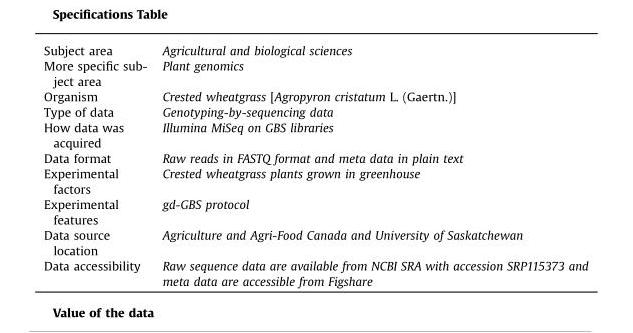table: (43, 42, 587, 287)
table column: (154, 42, 587, 287), (43, 42, 154, 287)
table row: (43, 57, 587, 88), (43, 165, 587, 196), (43, 226, 587, 257), (43, 119, 587, 149), (43, 196, 587, 226), (43, 257, 587, 287), (43, 103, 587, 119), (43, 149, 587, 165), (43, 42, 587, 57), (43, 88, 587, 103)
